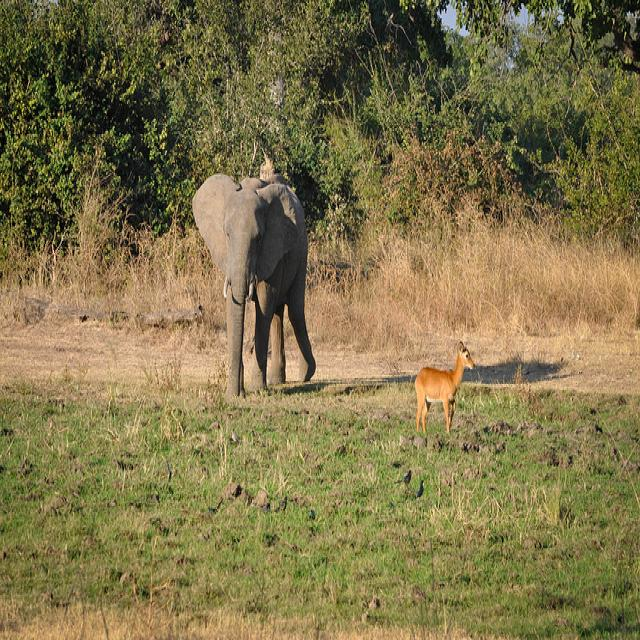Elephant: (191, 167, 316, 398)
